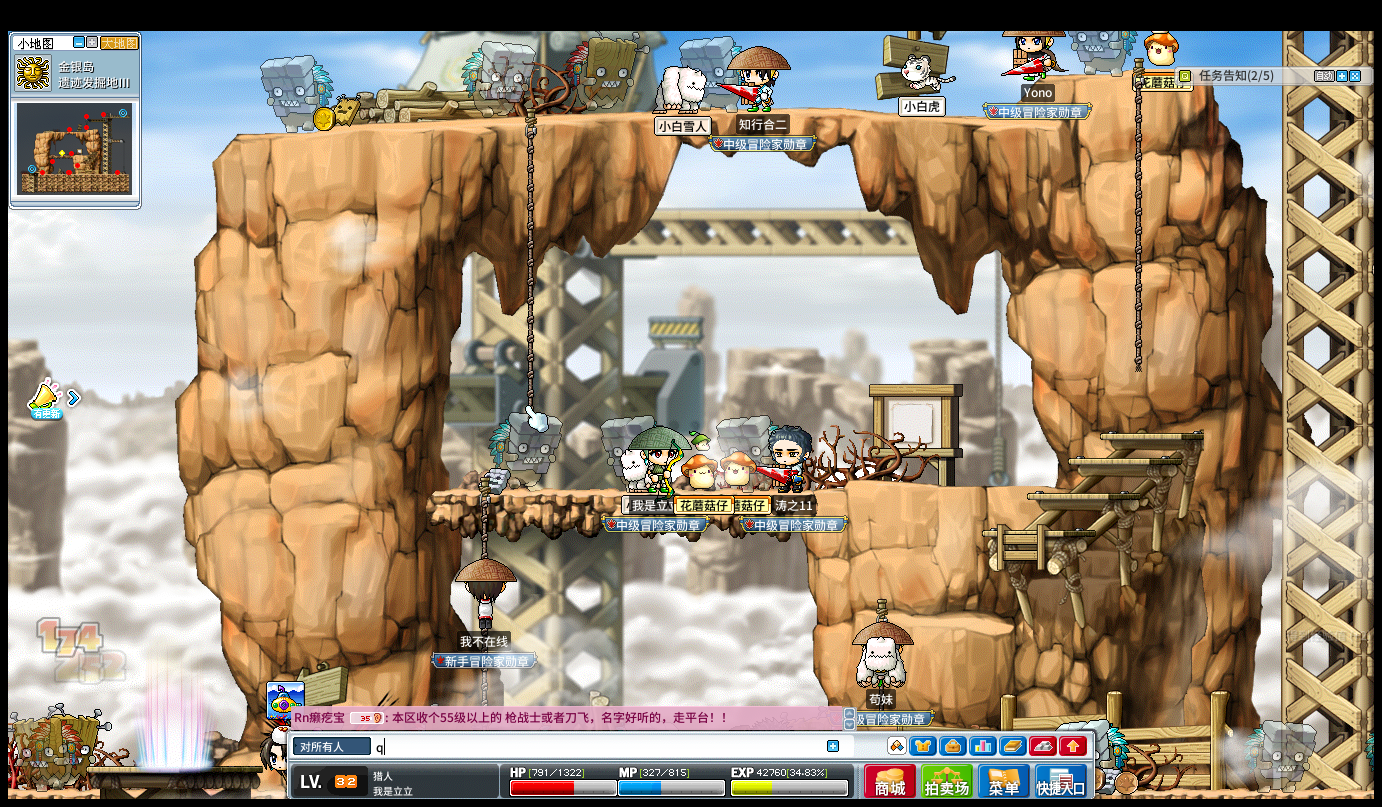floor: (223, 104, 1089, 139), (426, 487, 806, 499), (907, 612, 1015, 634), (861, 482, 1059, 491), (1099, 429, 1205, 441), (982, 528, 1095, 536), (1064, 456, 1177, 464), (1027, 492, 1139, 500)
monster: (7, 705, 105, 790), (563, 27, 644, 114), (461, 39, 535, 119), (486, 409, 557, 491), (259, 54, 333, 132), (1245, 720, 1314, 791), (1087, 722, 1130, 785), (1076, 29, 1124, 76), (719, 416, 775, 455), (600, 415, 647, 455), (601, 416, 639, 465)
rope: (1132, 65, 1146, 370), (523, 101, 536, 414), (475, 483, 490, 558)
